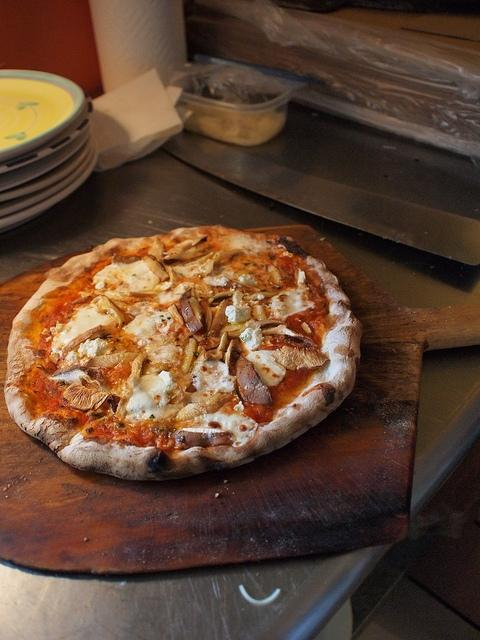mushroom: (62, 382, 112, 410), (174, 428, 234, 448), (180, 288, 205, 334)
